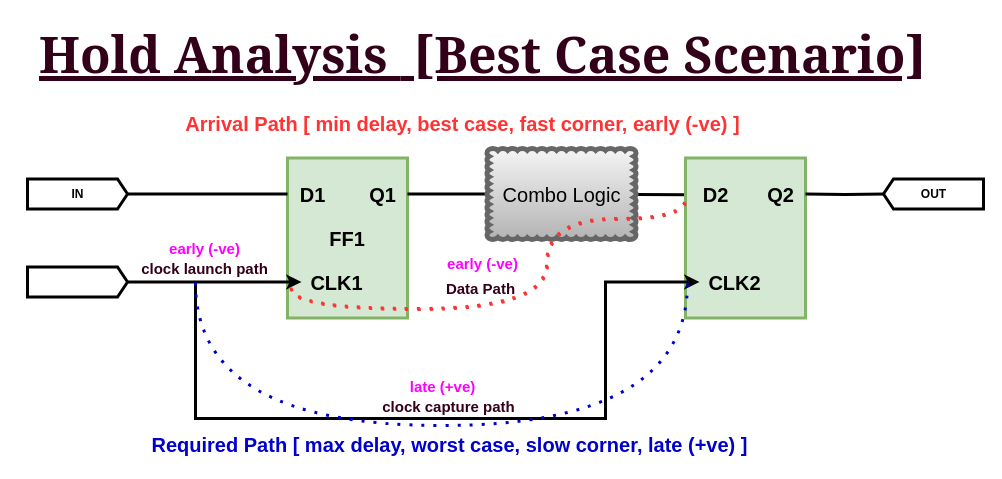
Image size: 1002x479. Some labels were removed from this diagram. Each missing label, with the box of its shape:
CLK: (26, 265, 128, 298)
FF2: (684, 156, 806, 319)
